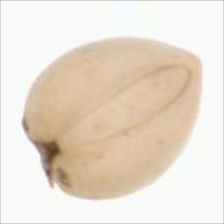L5: (49, 64, 194, 151), (19, 116, 72, 192), (176, 43, 212, 84)
L6: (19, 32, 207, 203)
